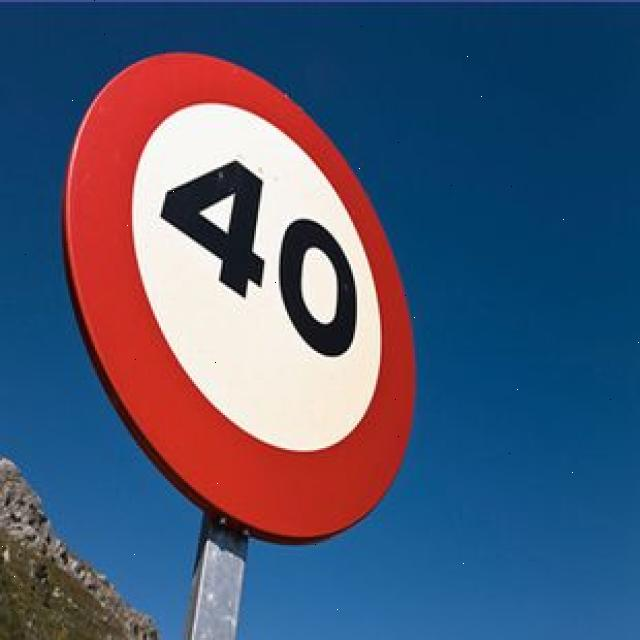speed limit 40: (62, 49, 415, 541)
